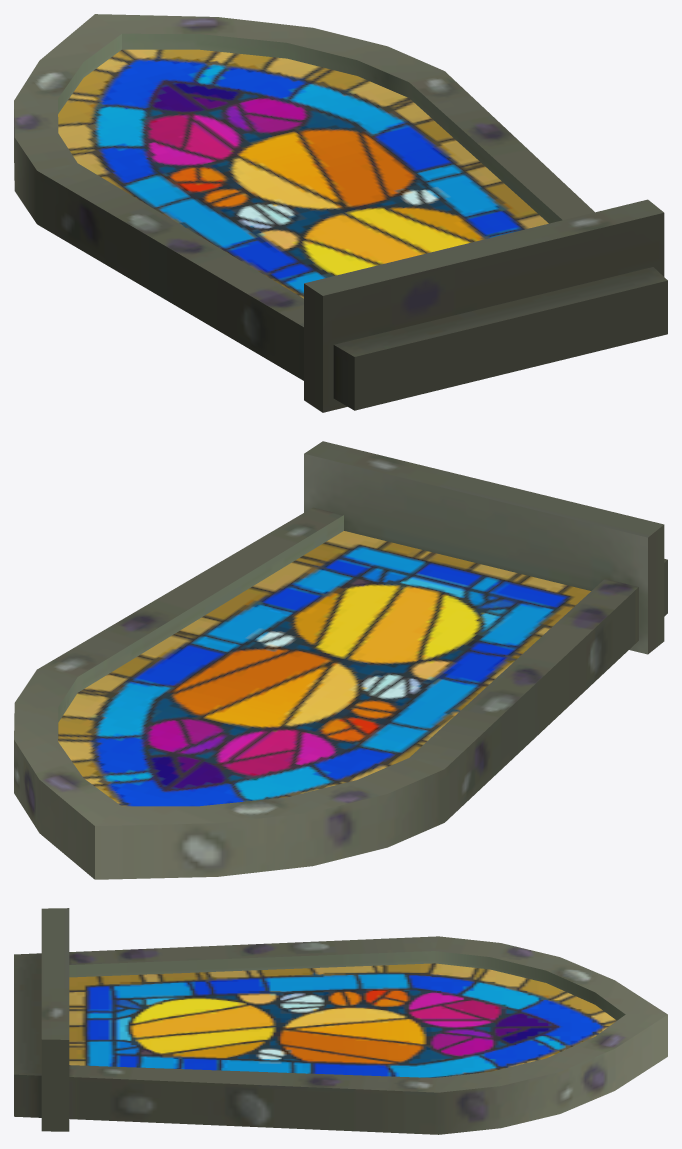
Rendered from StainedGlassWindow.fbx.
3 renders of one model, top to bottom at view 1: azimuth 30°, elevation 25°; view 2: azimuth 150°, elevation 25°; view 3: azimuth 270°, elevation 25°, orthographic. The views are drawn at different scales.
Visible parts, largest first — view 1: StainedGlassWindow; view 2: StainedGlassWindow; view 3: StainedGlassWindow.
Part boxes in pixels (x1,y1,x2,y2): StainedGlassWindow: (14, 14, 667, 412); StainedGlassWindow: (14, 441, 667, 879); StainedGlassWindow: (14, 908, 667, 1134).
Size of the model in its own units: 83.02 by 22.74 by 147.
